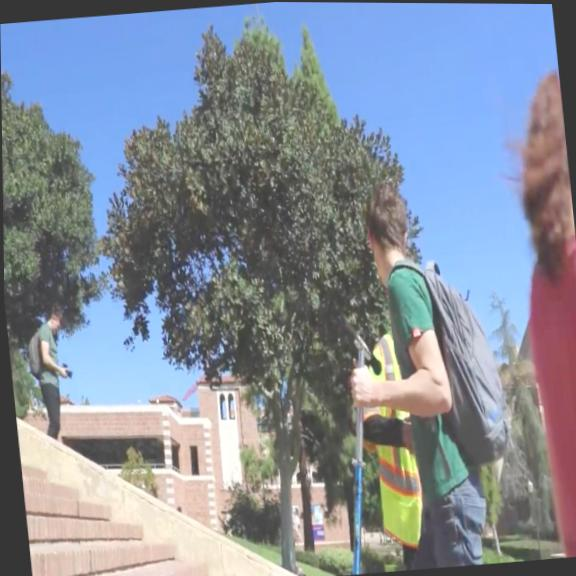safety_vest: (361, 330, 429, 551)
